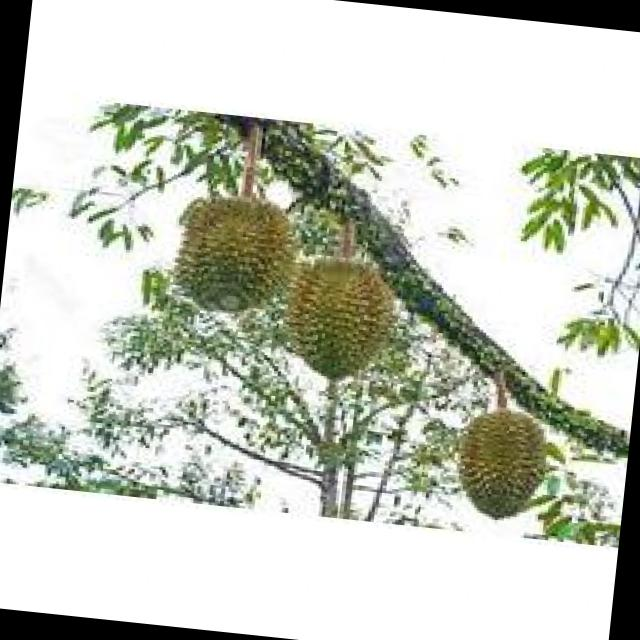fruit: (149, 173, 318, 340), (264, 232, 417, 396), (445, 397, 559, 525)
